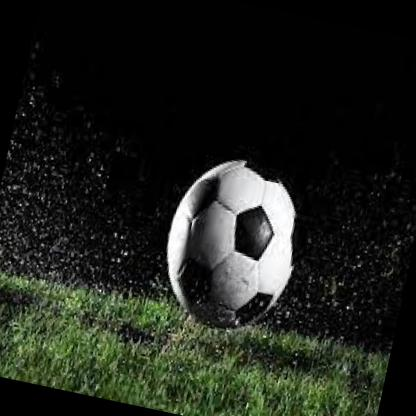ball: (151, 148, 315, 340)
